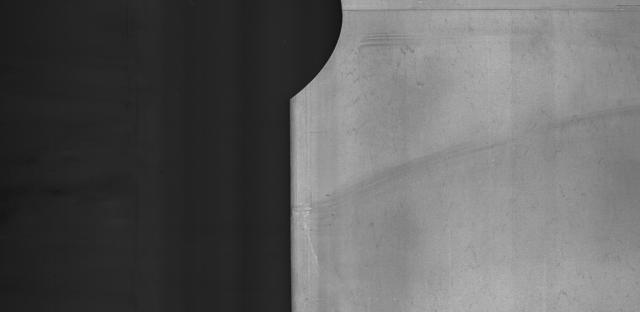crescent_gap: (270, 0, 353, 109)
welding_line: (328, 2, 637, 23)
